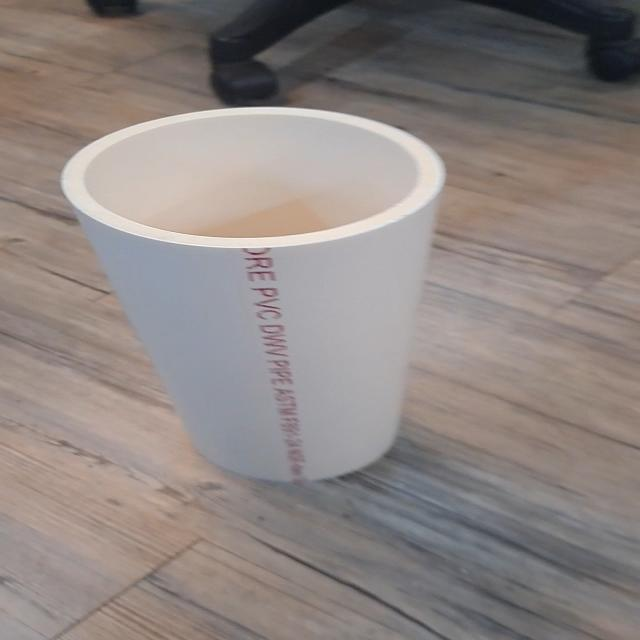CORAL: (57, 105, 466, 488)
